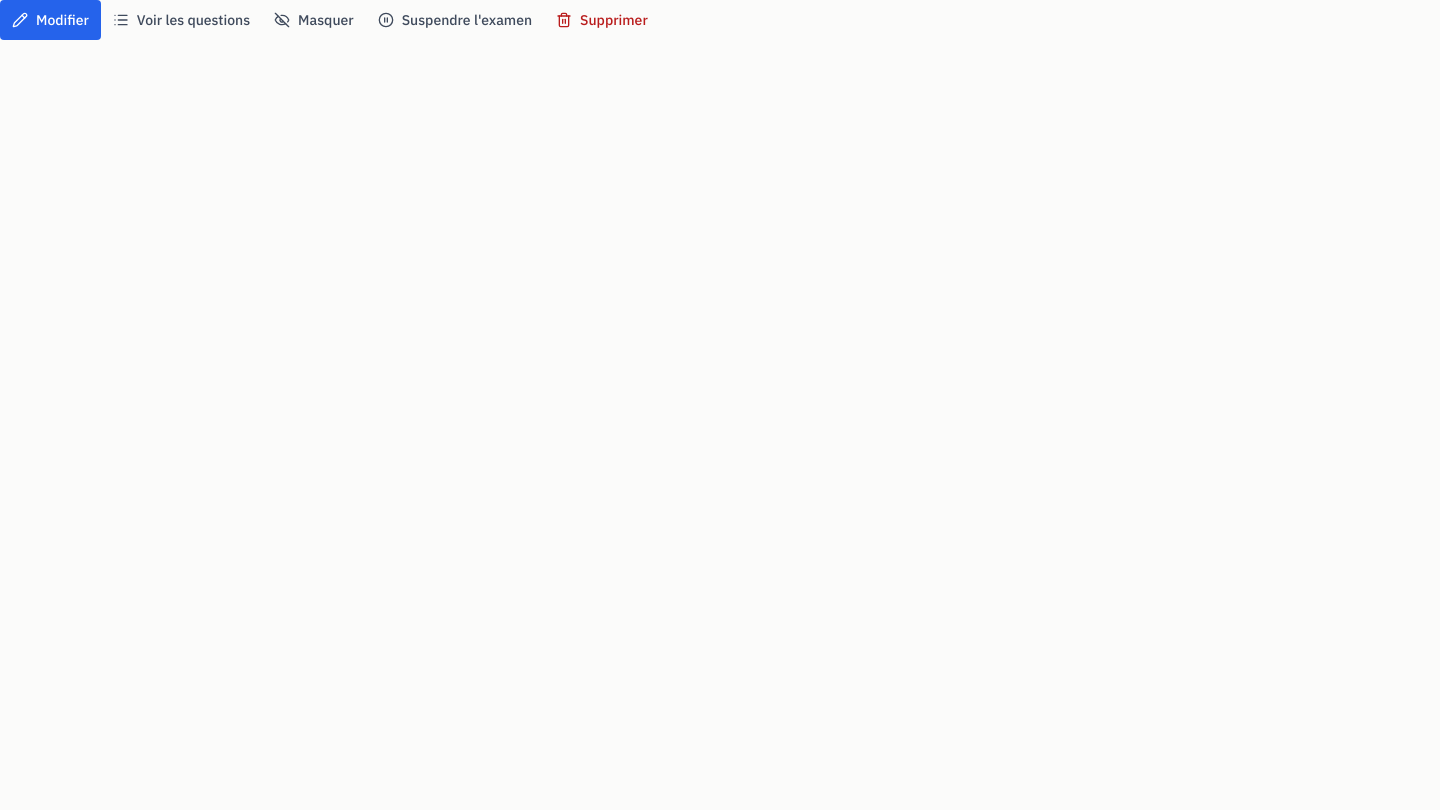
Test: ExamDetailActions — suppression › « Supprimer » ouvre la confirmation, qui propose la suspension à la place
The image size is (1440, 810).
Click the button with test id "btn-delete-exam": (602, 20) [544,0,660,40]
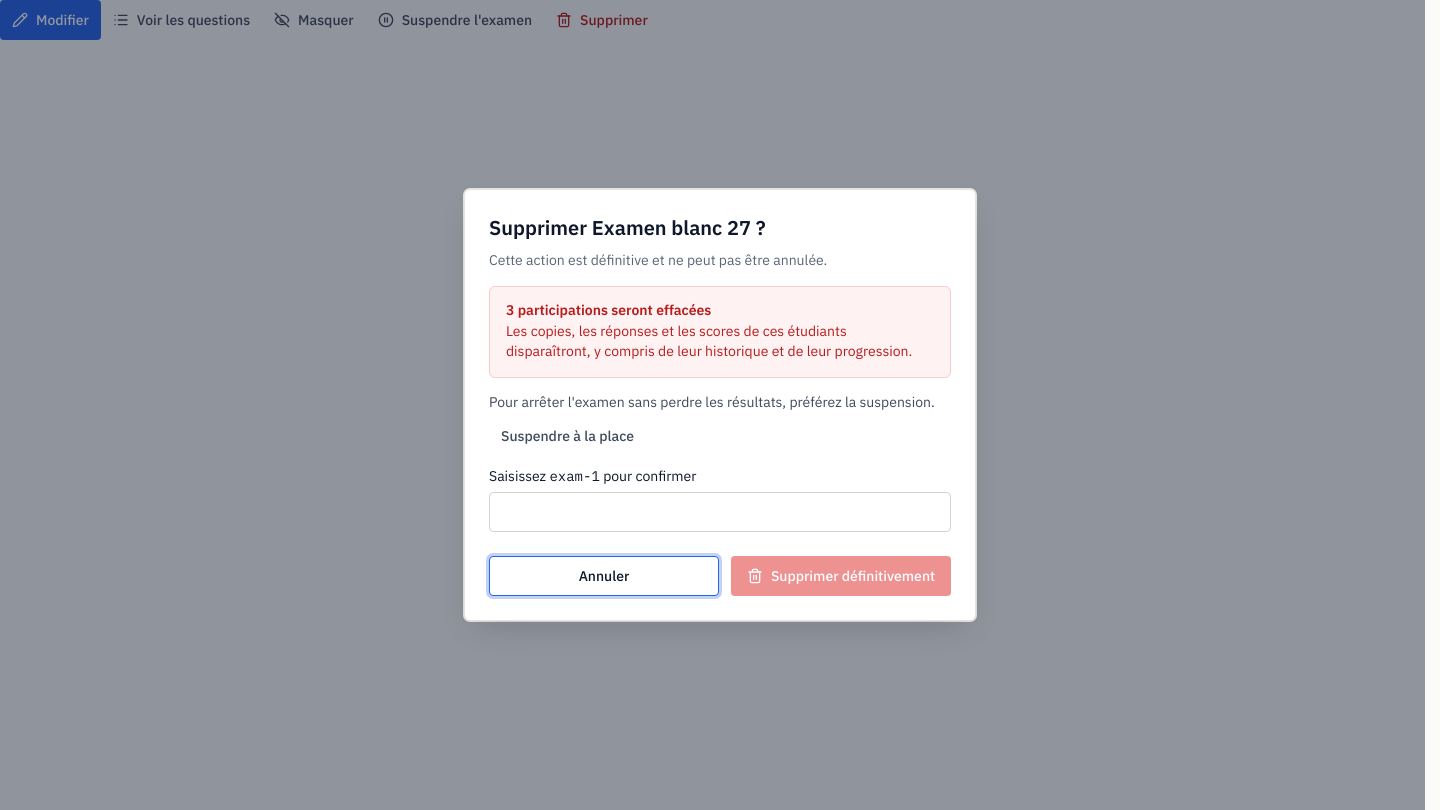
Expected: the heading "3 participations seront effacées" is shown, [506,301,711,319]
Click the button with test id "btn-suspend-instead": (568, 436) [489,420,646,452]
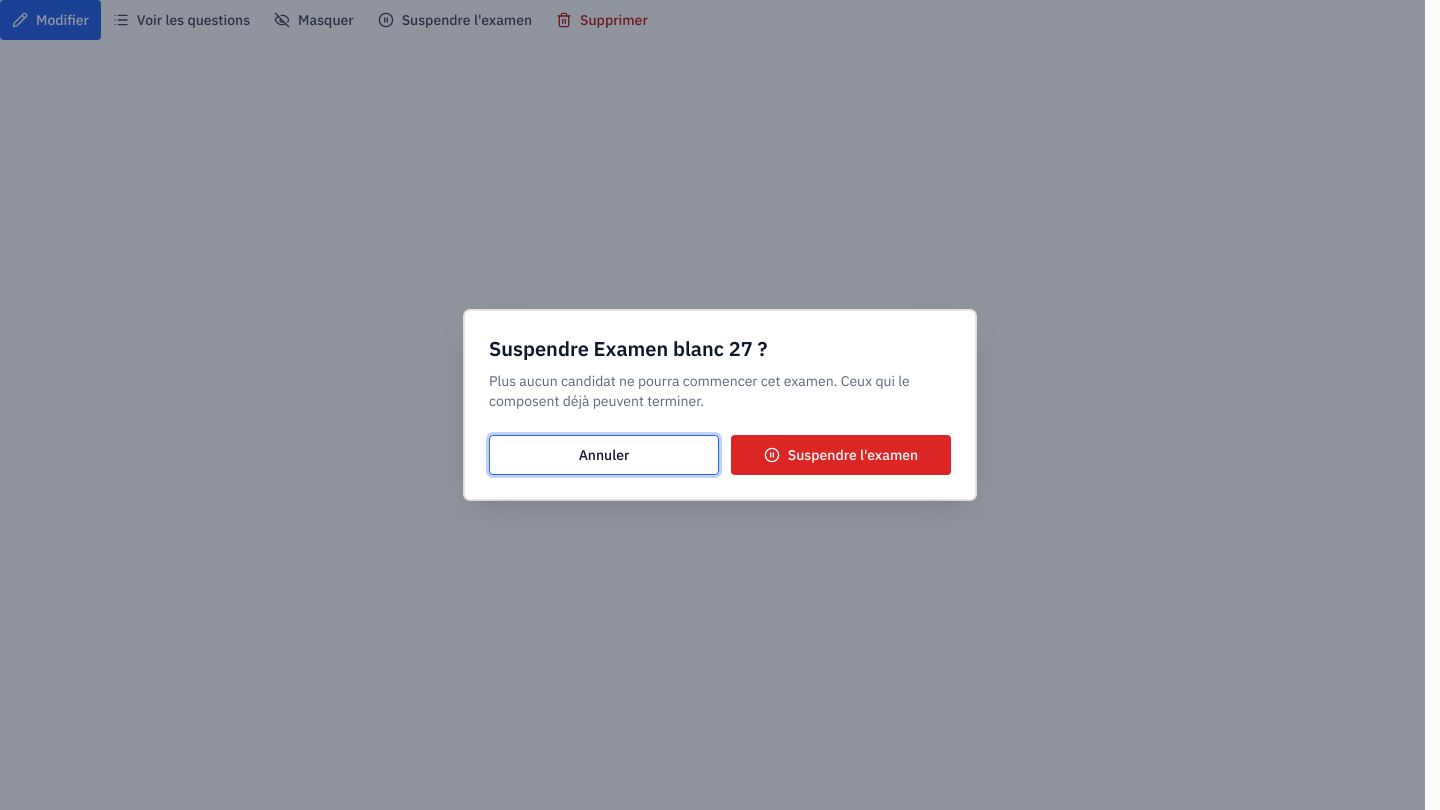
Expected: the button with test id "btn-delete-exam-confirm" is gone
Expected: the button with test id "btn-suspend-exam-confirm" is shown, [731,435,951,475]
